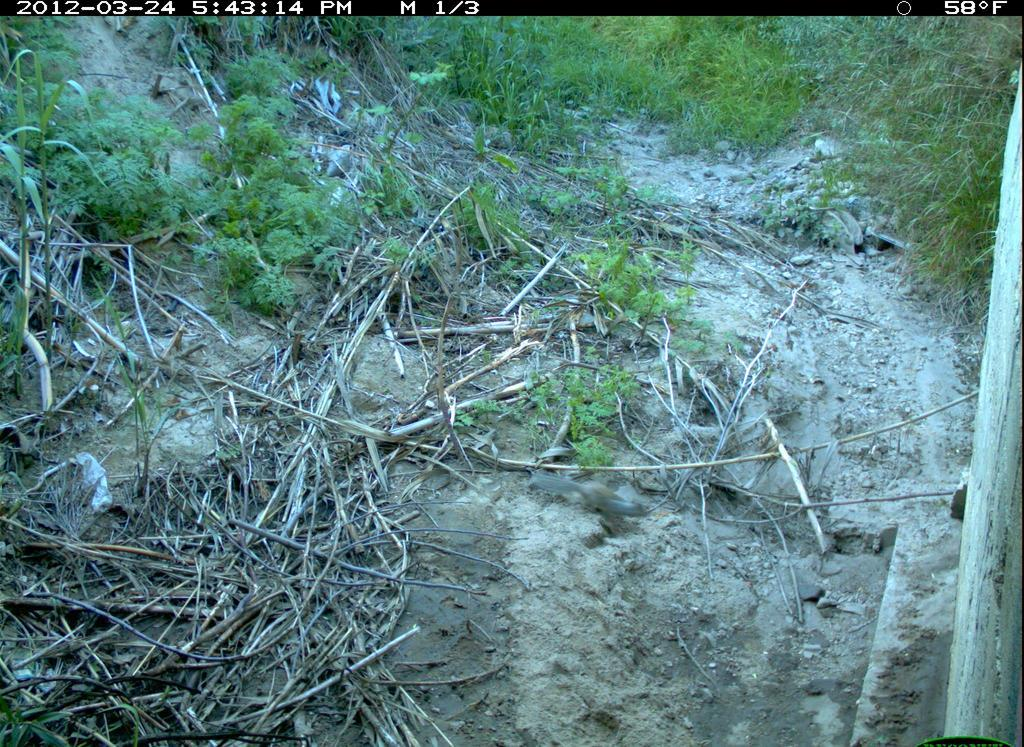squirrel: (518, 464, 673, 542)
